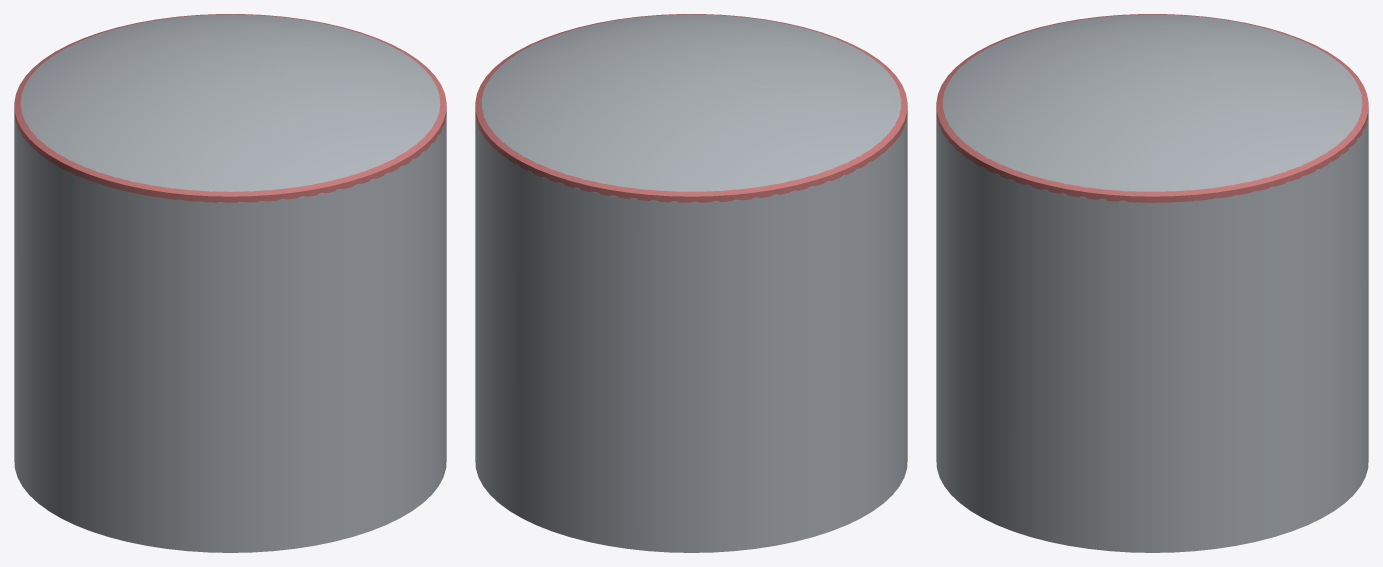
Rendered from step_02.glb.
3 views of the same model, side by side, from view 1: azimuth 30°, elevation 25°; view 2: azimuth 150°, elevation 25°; view 3: azimuth 270°, elevation 25° (orthographic).
Parts seen in each view (by area): view 1: part__piston head, removed__piston head; view 2: part__piston head, removed__piston head; view 3: part__piston head, removed__piston head.
Part boxes in pixels (<box>): part__piston head: <box>14,14,446,552</box>; removed__piston head: <box>14,14,446,202</box>; part__piston head: <box>475,14,907,552</box>; removed__piston head: <box>475,14,907,202</box>; part__piston head: <box>936,14,1368,552</box>; removed__piston head: <box>936,14,1368,202</box>.
Size of the model in its own units: 43.99 by 44 by 44.
